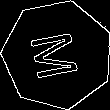M_E: (28, 27, 87, 82)
